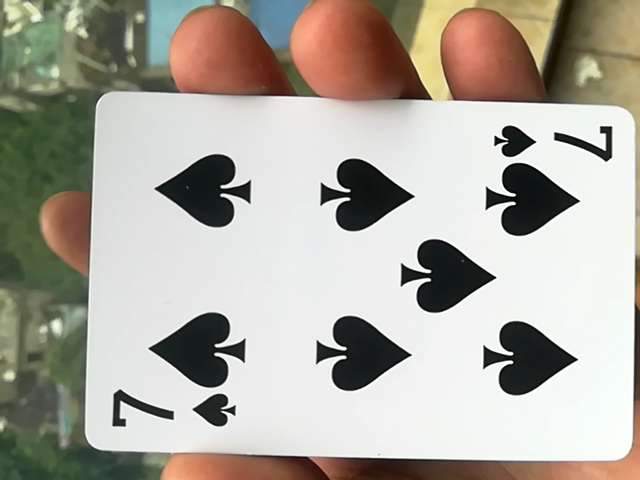ht 7: (76, 92, 638, 472)
